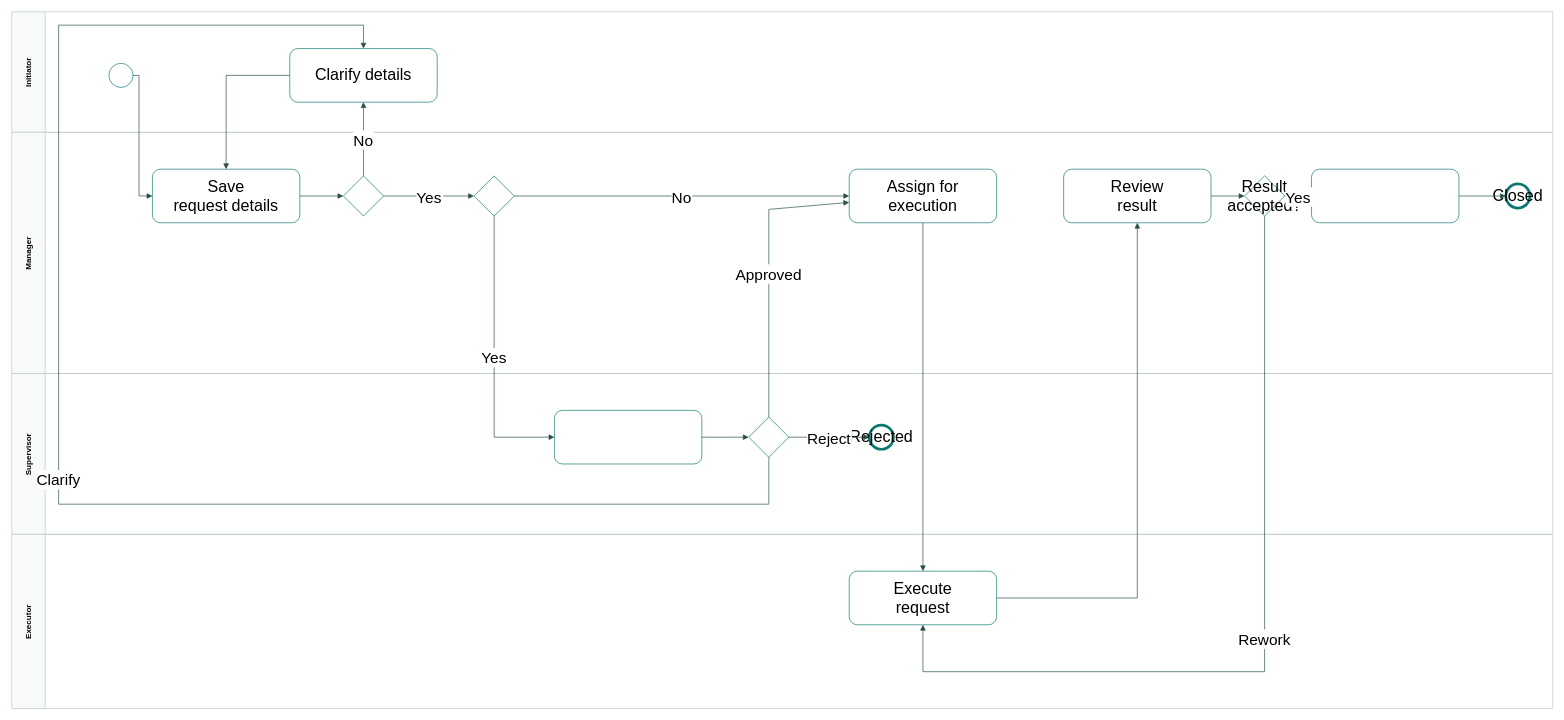
Some shapes in this 1564 by 720 pixel diagram are drawn without their labels. Here are the shapes that lost their labels. From the top down, the centre of each, then its label:
At (120,75): "Request received".
At (363,195): "Data complete?".
At (493,195): "Approval required?".
At (1385,196): "Close request".
At (628,437): "Review request".
At (768,436): "Decision?".
